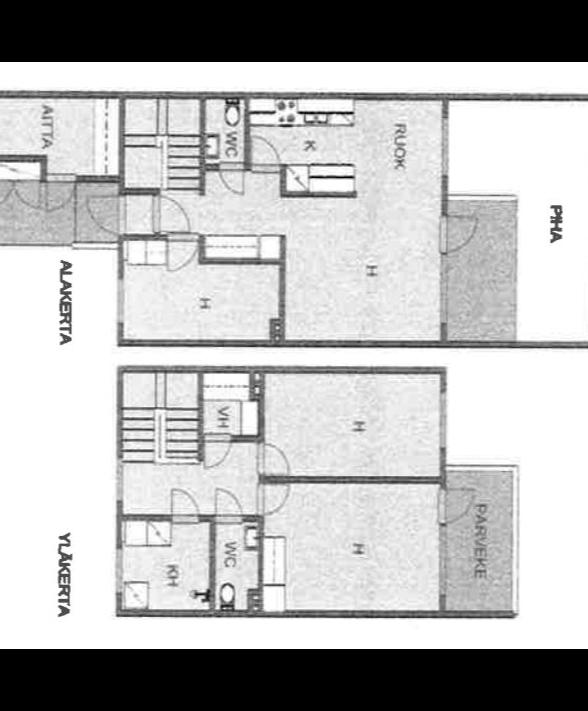door: (83, 192, 127, 234), (151, 192, 192, 233), (436, 486, 478, 525), (440, 211, 483, 249), (247, 132, 282, 178), (254, 440, 294, 480), (168, 486, 202, 526), (164, 232, 198, 272), (211, 487, 244, 528), (254, 482, 292, 517), (202, 432, 232, 473), (215, 158, 245, 198), (13, 172, 42, 212), (48, 172, 75, 211), (0, 174, 16, 208)
window: (435, 524, 450, 600), (436, 112, 451, 186), (436, 250, 450, 328), (435, 384, 449, 454), (112, 452, 126, 504), (114, 272, 127, 328), (112, 542, 122, 594)
